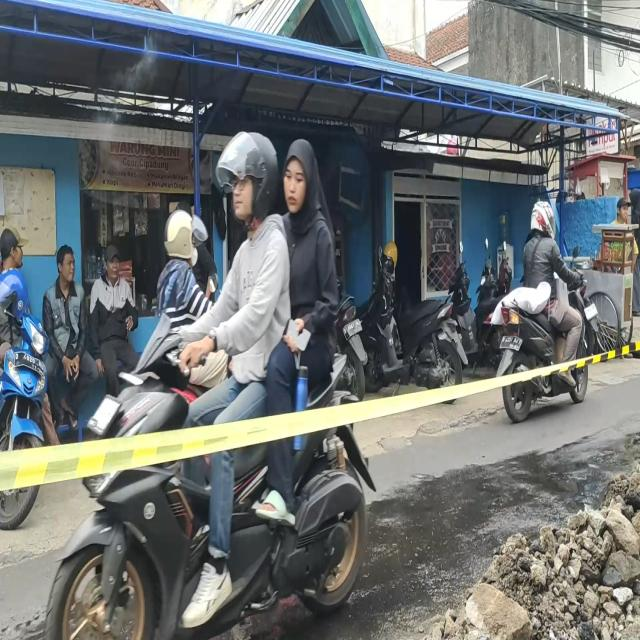helmet: (218, 130, 278, 217), (531, 196, 560, 242)
no-helmet: (284, 145, 319, 217)
